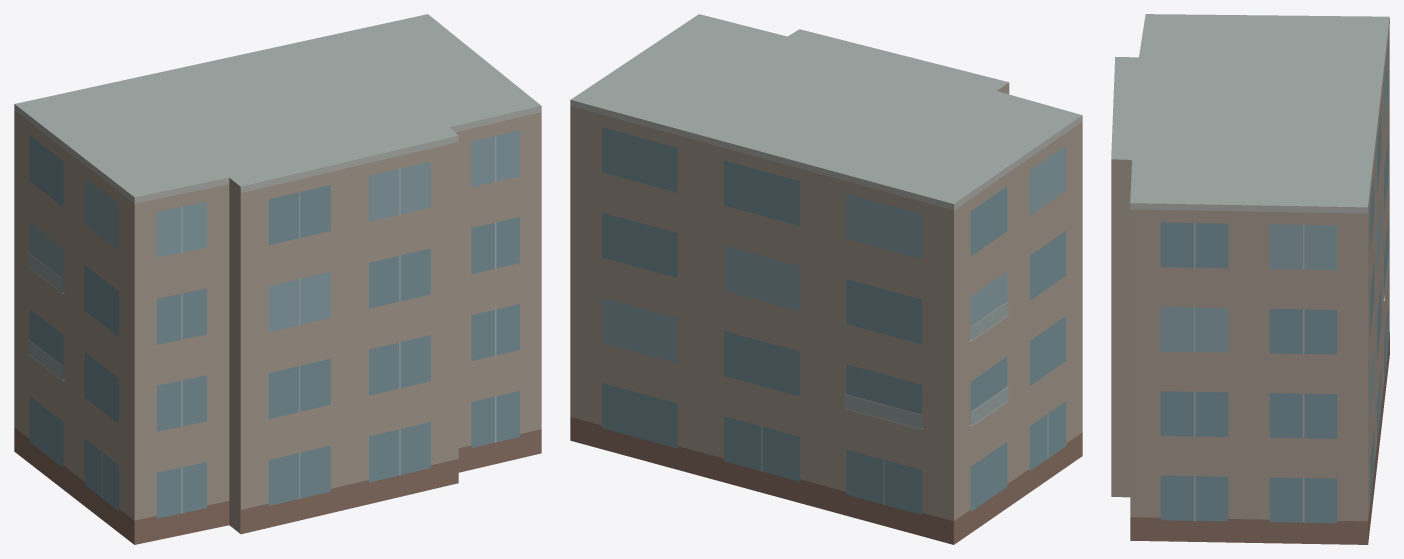
Rendered from survey-upis-32931823.glb.
3 renders of one model, left to right at view 1: azimuth 30°, elevation 25°; view 2: azimuth 150°, elevation 25°; view 3: azimuth 270°, elevation 25°, orthographic. The views are drawn at different scales.
Parts seen in each view (by area): view 1: survey-upis-32931823.tmp; view 2: survey-upis-32931823.tmp; view 3: survey-upis-32931823.tmp.
Part boxes in pixels (left/top/right/bottom): survey-upis-32931823.tmp: left=14, top=14, right=541, bottom=544; survey-upis-32931823.tmp: left=570, top=14, right=1082, bottom=544; survey-upis-32931823.tmp: left=1111, top=14, right=1389, bottom=544.
Size of the model in its own units: 16.22 by 13.2 by 9.89.
